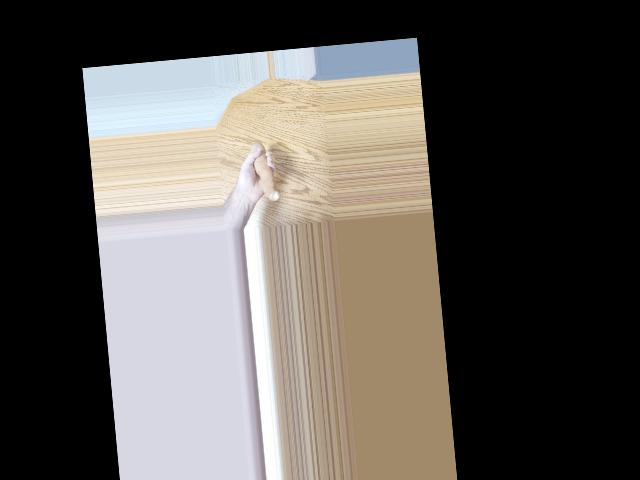sweet_potato: (247, 145, 277, 208)
